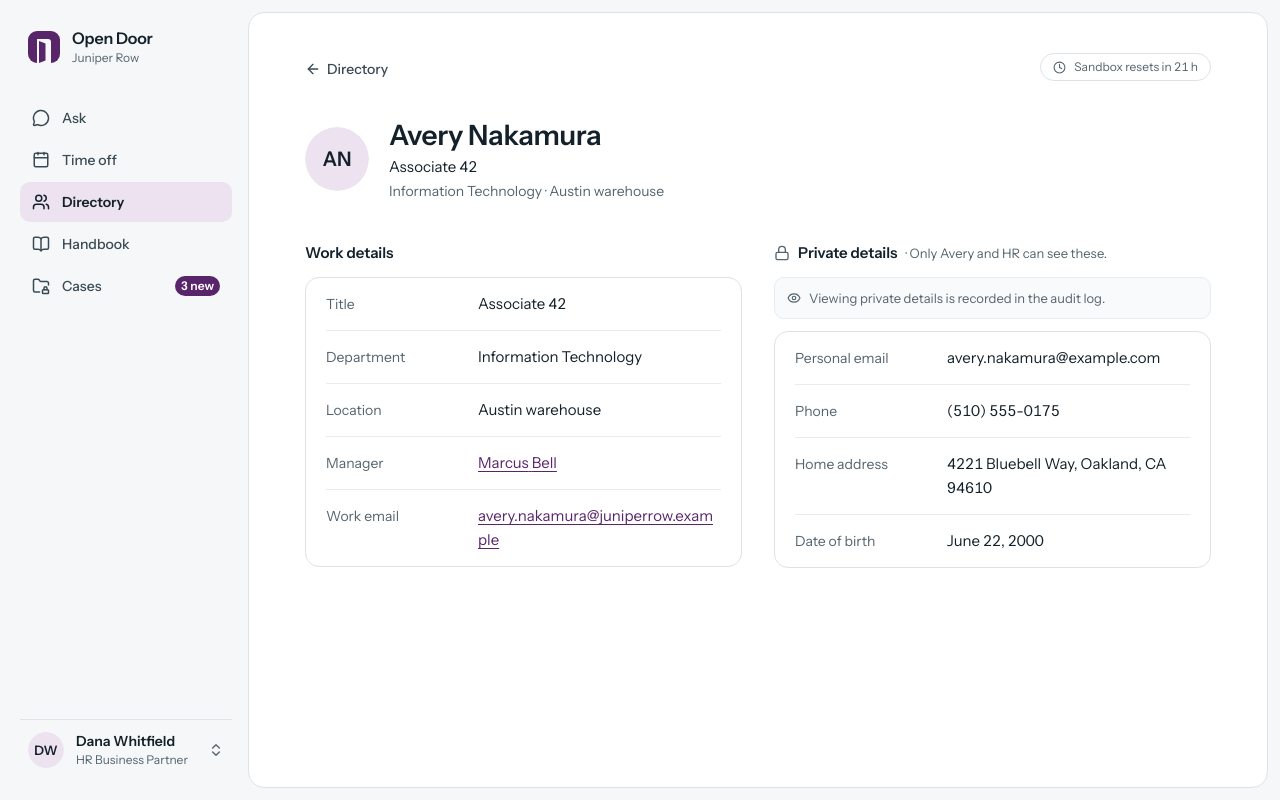
private details for everyone else › makes no private request after switching to someone else, and clears the values HR saw
Expected: the text "(510) 555-0175" is shown, 947,401 -> 1060,420
Click the button named "Switch persona".
click(126, 750)  # box 20,719 -> 232,780
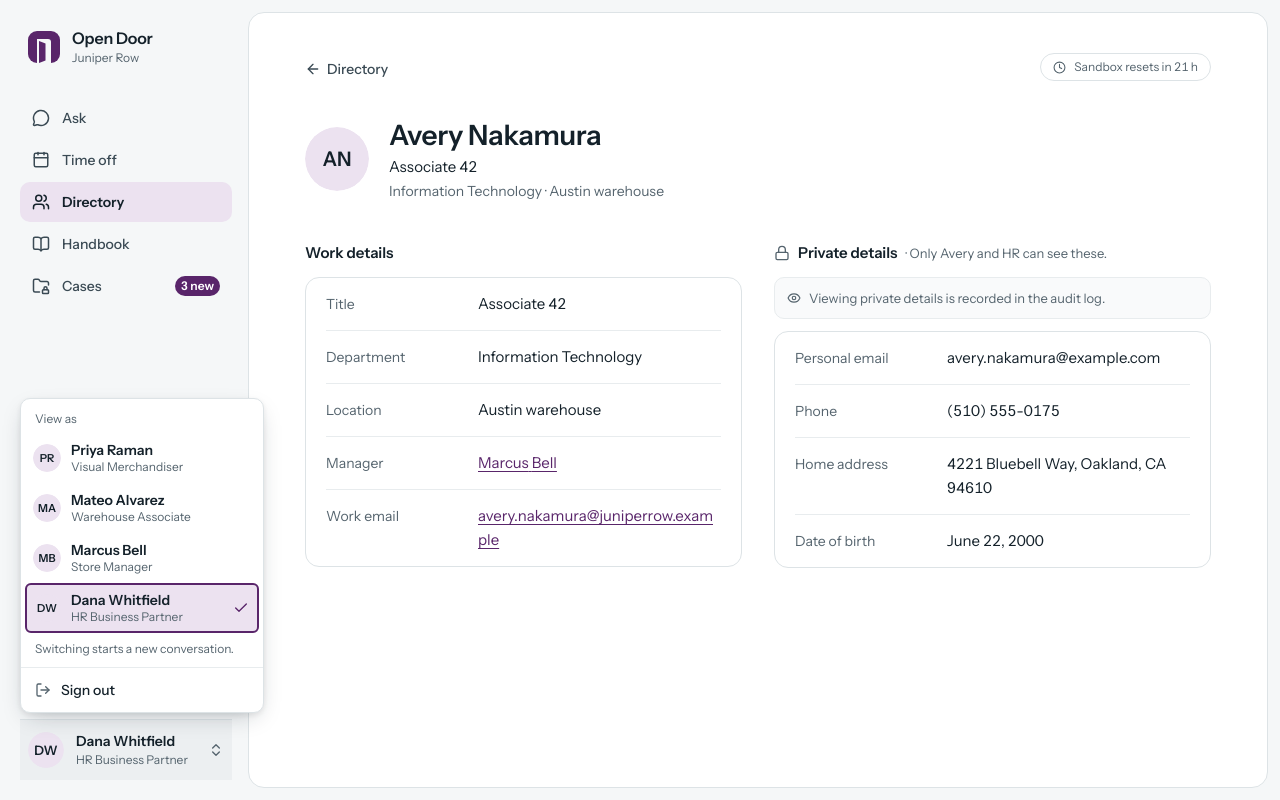
Click the menu item "PR Priya Raman Visual Merchandiser".
click(108, 458)  # box 33,441 -> 183,474
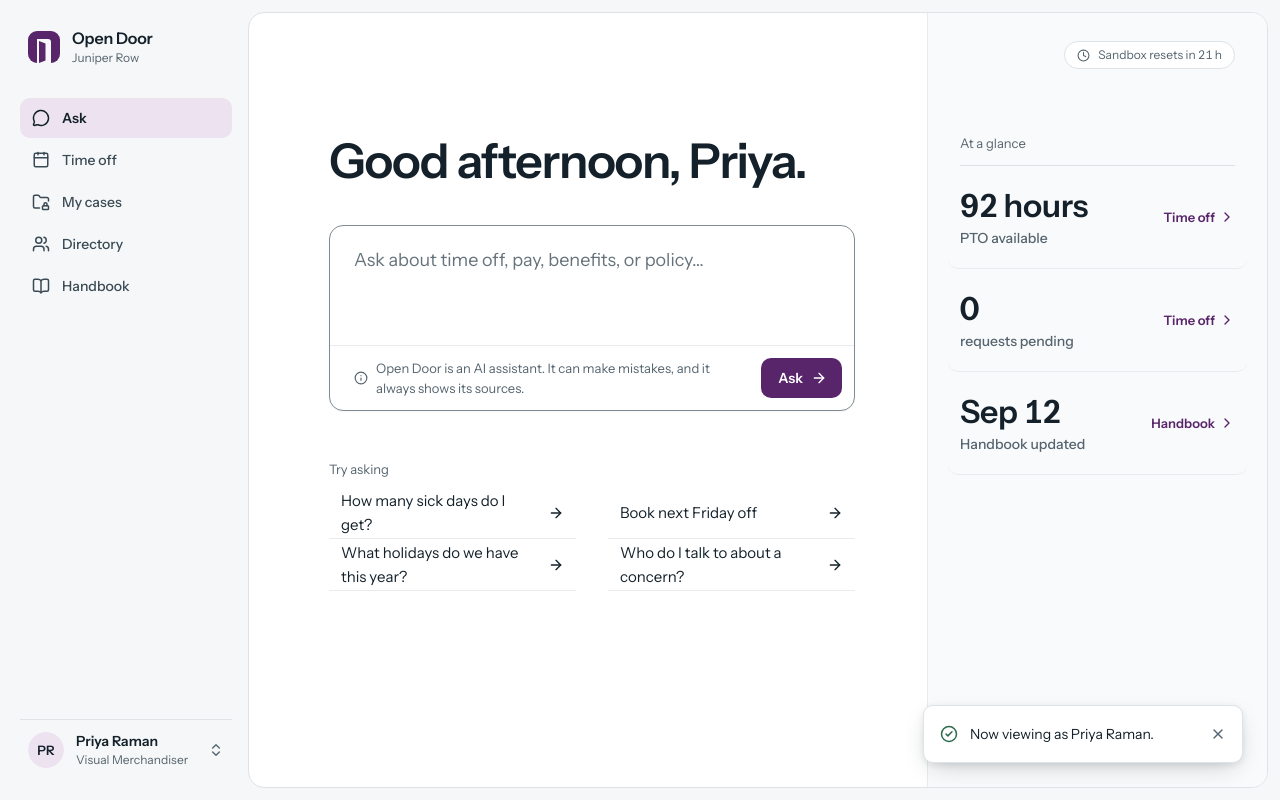
Expected: the heading "Good afternoon, Priya." is shown, 329,133 -> 855,189
